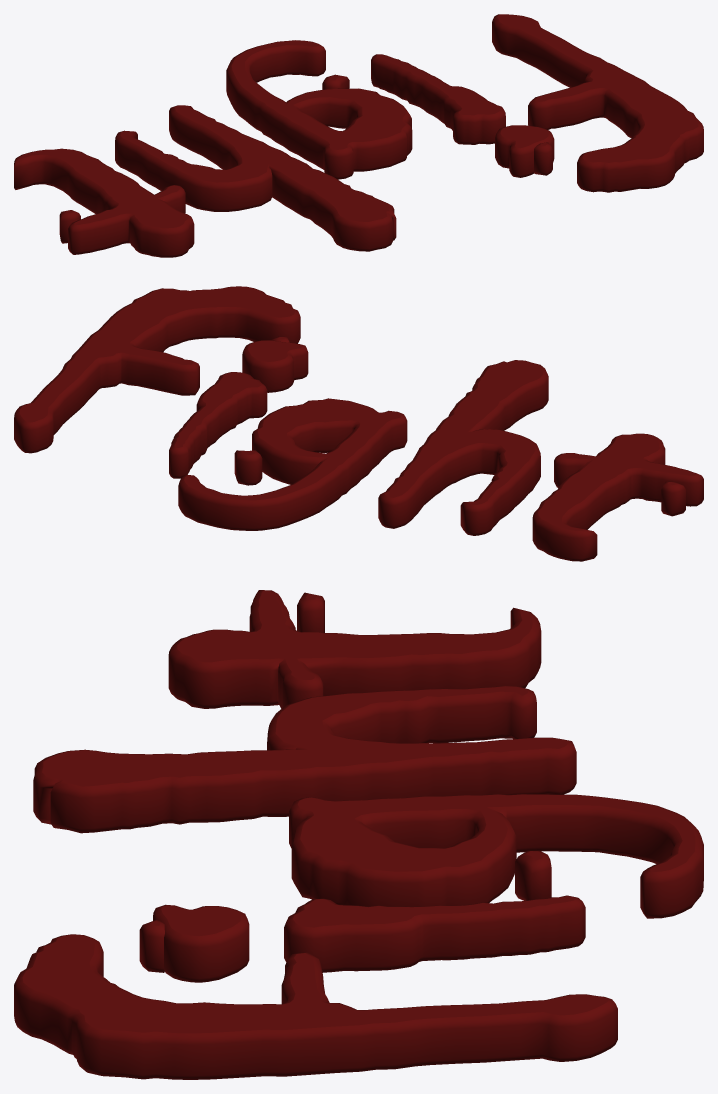
Rendered from title.obj.
The picture shows the model from 3 angles, top to bottom: view 1: azimuth 30°, elevation 25°; view 2: azimuth 150°, elevation 25°; view 3: azimuth 270°, elevation 25°; orthographic projection. The views are drawn at different scales.
Visible parts, largest first — view 1: Text; view 2: Text; view 3: Text.
Boxes of the visible parts, box(x1,y1,x2,y2) form: Text: box(14, 14, 703, 257); Text: box(14, 286, 703, 561); Text: box(14, 590, 703, 1079).
Size of the model in its own units: 1.25 by 0.06 by 0.8107.
